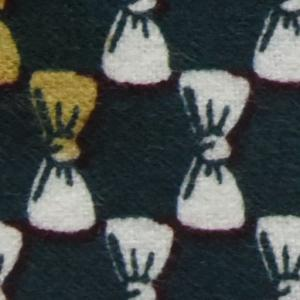Stain: (1, 1, 114, 172)
